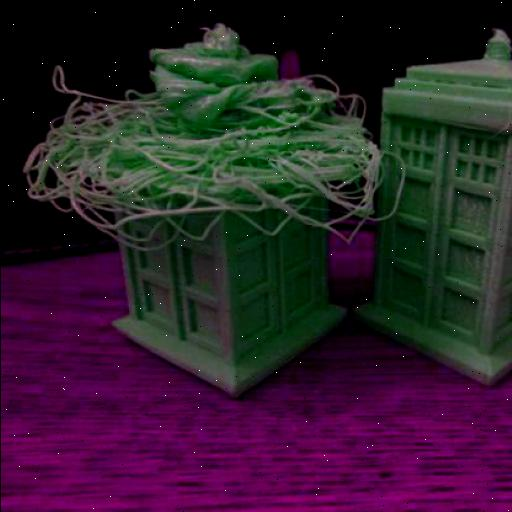spaghetti: (18, 16, 410, 256)
